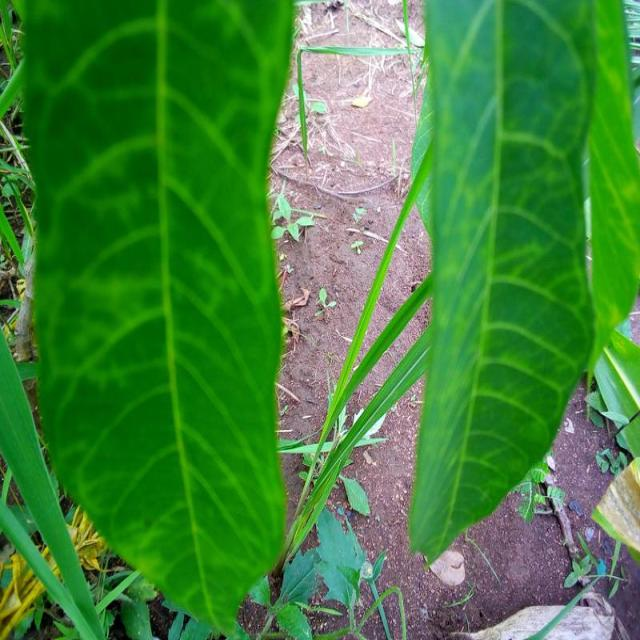cassava leaf: (17, 0, 296, 636), (405, 0, 600, 567)
